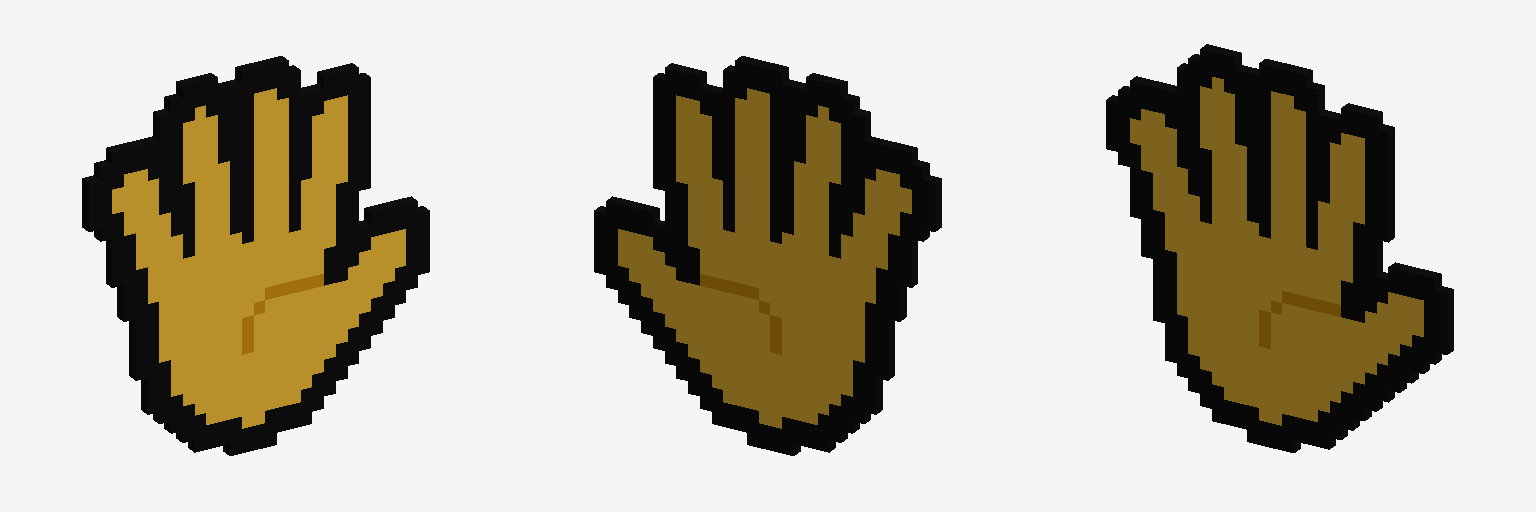
The picture shows the model from 3 angles: view 1: azimuth 30°, elevation 25°; view 2: azimuth 150°, elevation 25°; view 3: azimuth 330°, elevation 25°; orthographic projection.
Visible parts, largest first — view 1: object 1; view 2: object 1; view 3: object 1.
Part boxes in pixels (x1,y1,x2,y2): object 1: (82,56,429,455); object 1: (594,56,941,455); object 1: (1106,44,1453,452).
Size of the model in its own units: 2.9 by 3.1 by 0.1.
Materials: 1 (1 with a texture image).